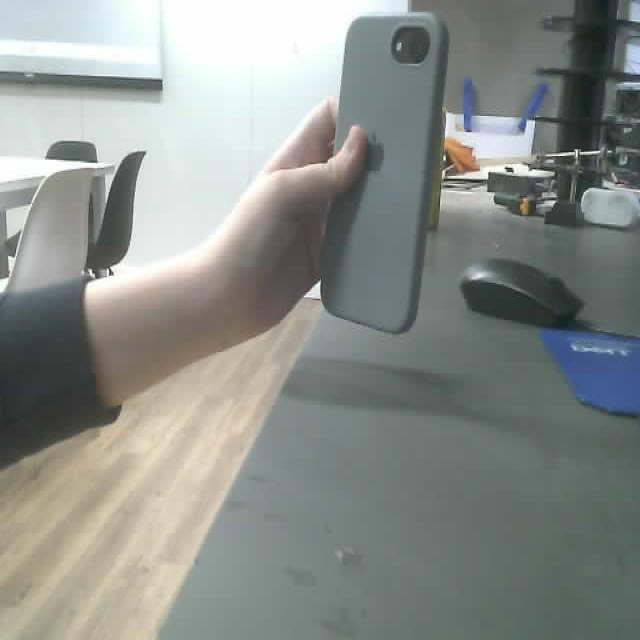phone: (319, 13, 449, 335)
